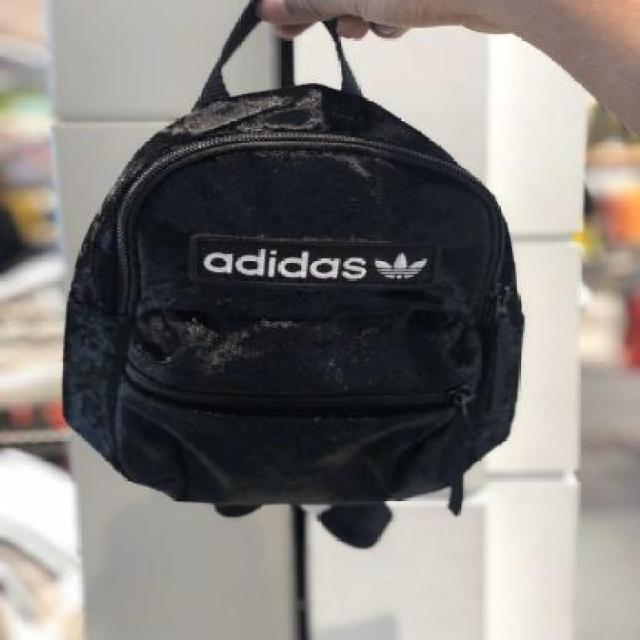Bag: (45, 0, 548, 531)
